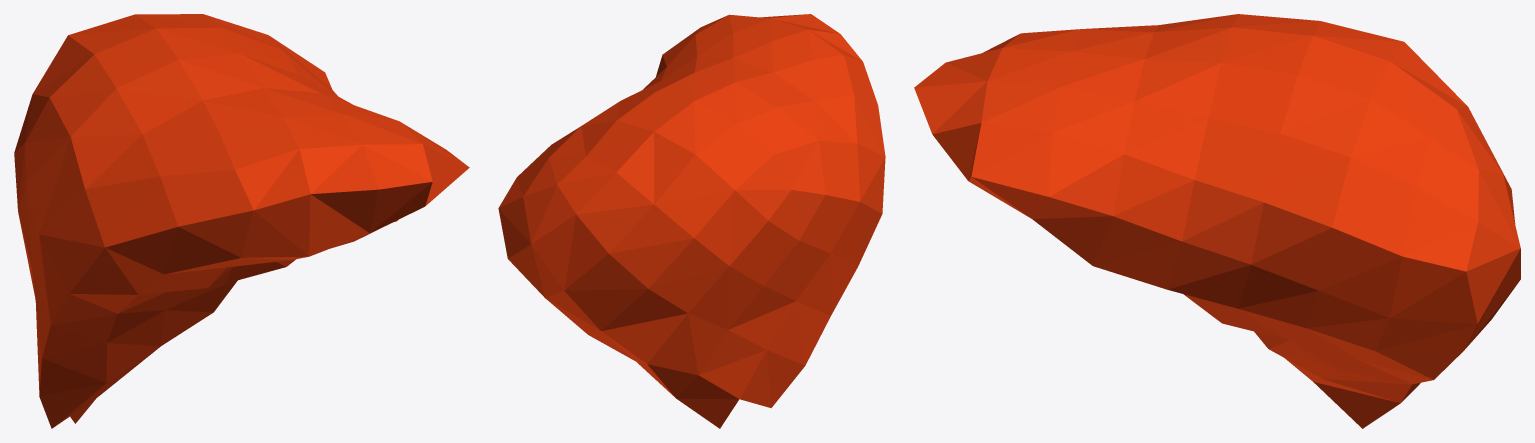
The model's file is MeshCol_125_1_2.fbx.
The picture shows the model from 3 angles, left to right: view 1: azimuth 30°, elevation 25°; view 2: azimuth 150°, elevation 25°; view 3: azimuth 270°, elevation 25°; orthographic projection. The views are drawn at different scales.
Parts seen in each view (by area): view 1: Parenchyma_complex_1.001; view 2: Parenchyma_complex_1.001; view 3: Parenchyma_complex_1.001.
Part boxes in pixels (x1,y1,x2,y2): Parenchyma_complex_1.001: [14, 14, 469, 428]; Parenchyma_complex_1.001: [498, 14, 885, 428]; Parenchyma_complex_1.001: [914, 14, 1520, 428].
Bounding box in the file's own units: 72.51 × 77.39 × 101.
